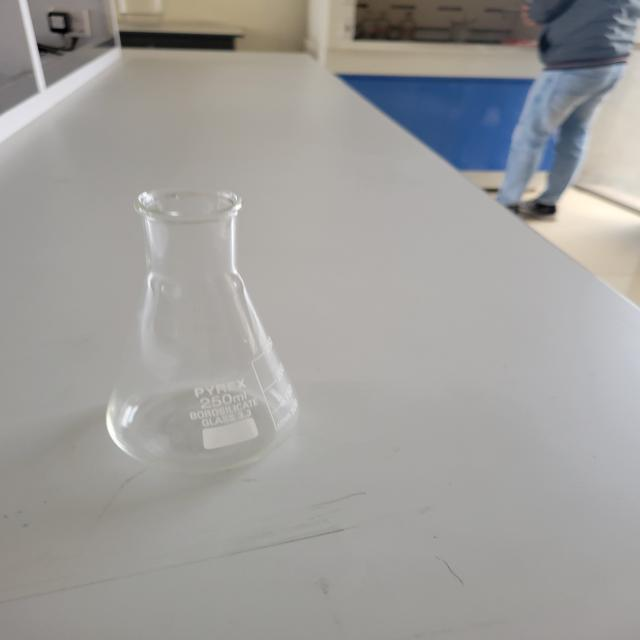Conical_Flask: (89, 148, 328, 494)
